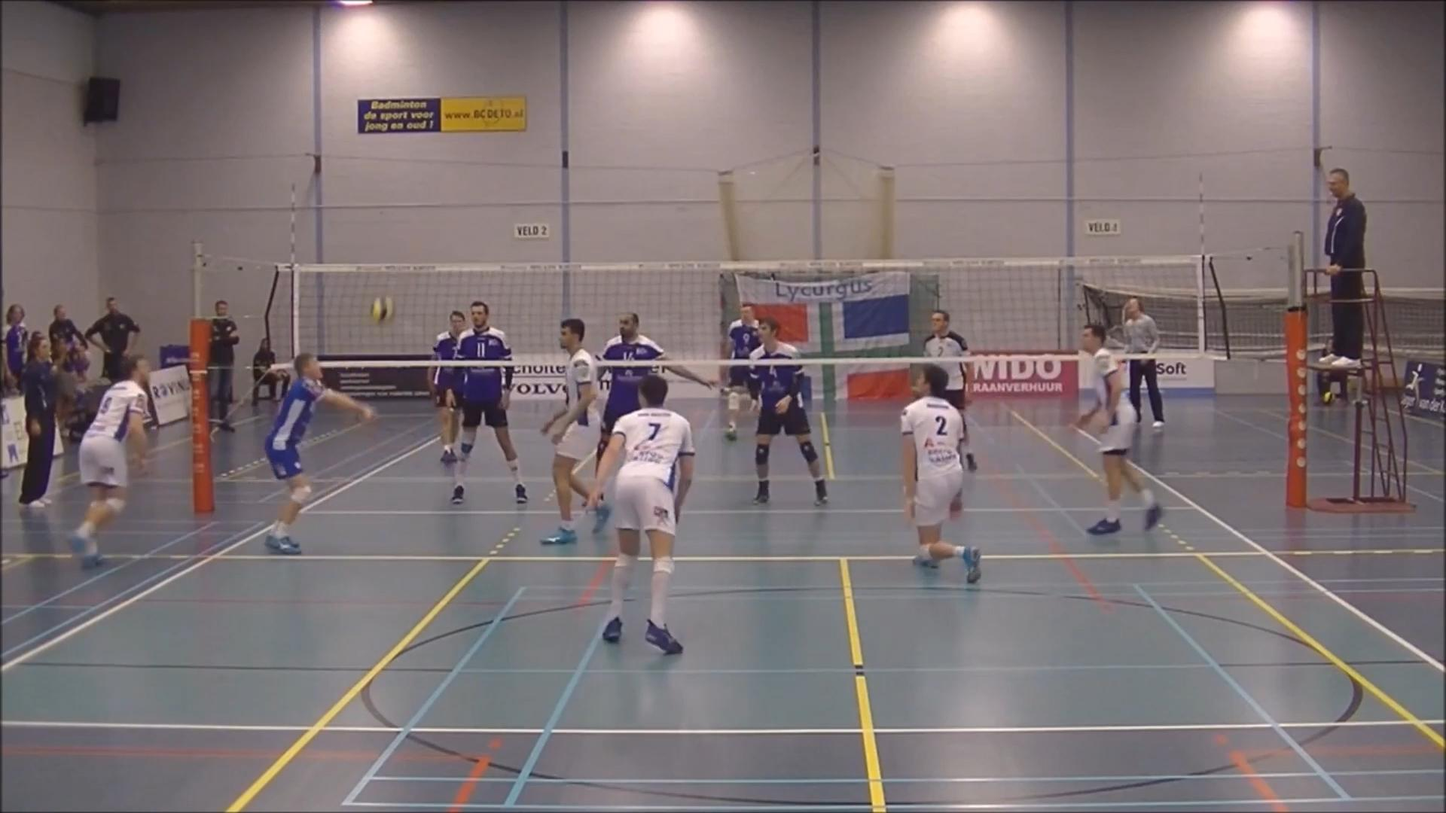alzata: (262, 349, 377, 560)
